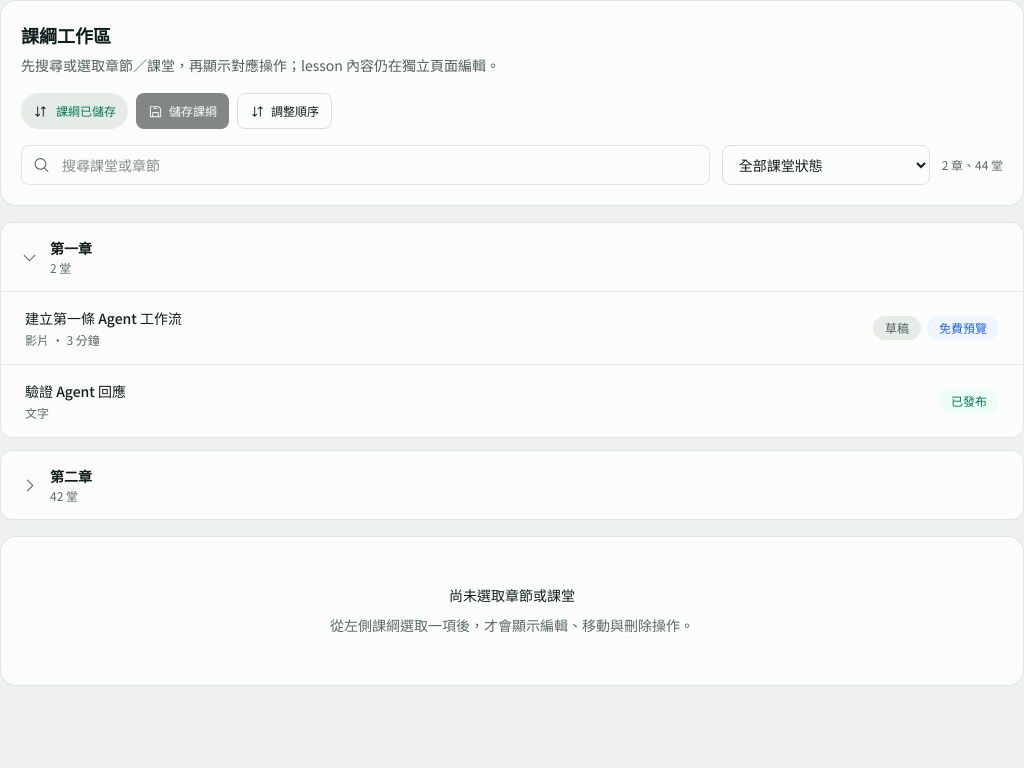
Test case: CourseOutlineEditor › renders touched authoring labels and aria labels as readable Traditional Chinese
Check: the text "影片 · 3 分鐘" is shown, box [25, 331, 100, 348]
Check: the text "免費預覽" is shown, box [927, 316, 999, 340]
Click the button "調整順序": click(284, 111) [237, 93, 332, 129]
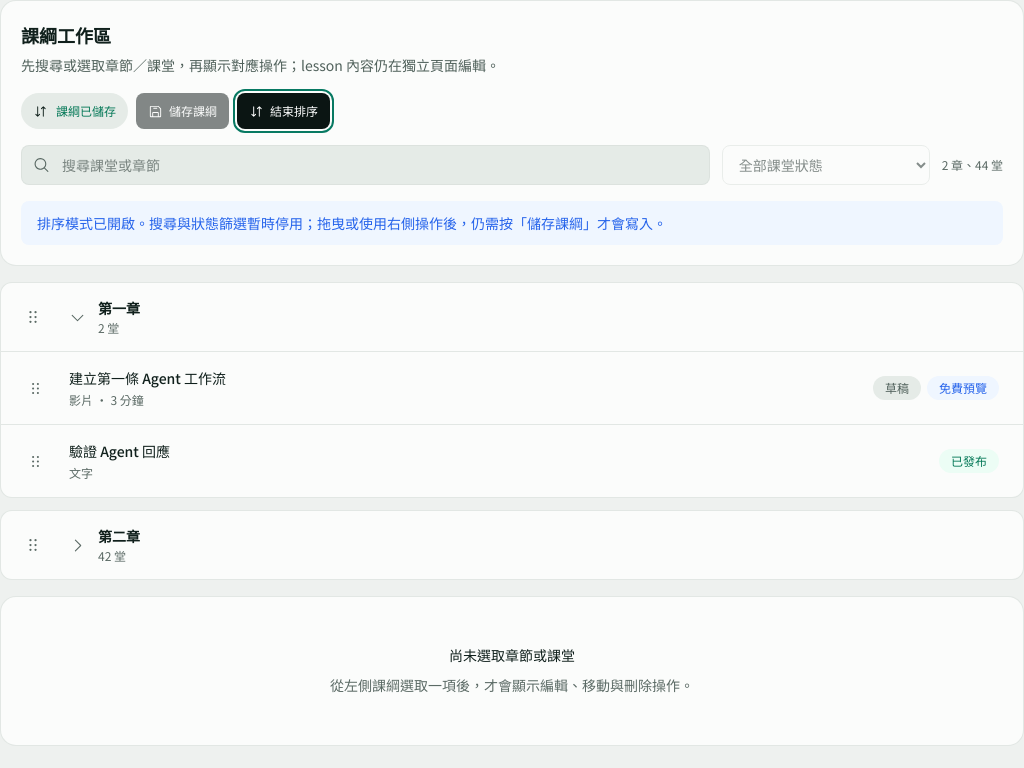
Check: the button named "拖曳排序章節：第一章" is shown, box [13, 297, 53, 337]
Check: the button named "拖曳排序課堂：建立第一條 Agent 工作流" is shown, box [17, 370, 53, 406]
Check: the text "排序模式已開啟。搜尋與狀態篩選暫時停用；拖曳或使用右側操作後，仍需按「儲存課綱」才會寫入。" is shown, box [21, 201, 1003, 245]
